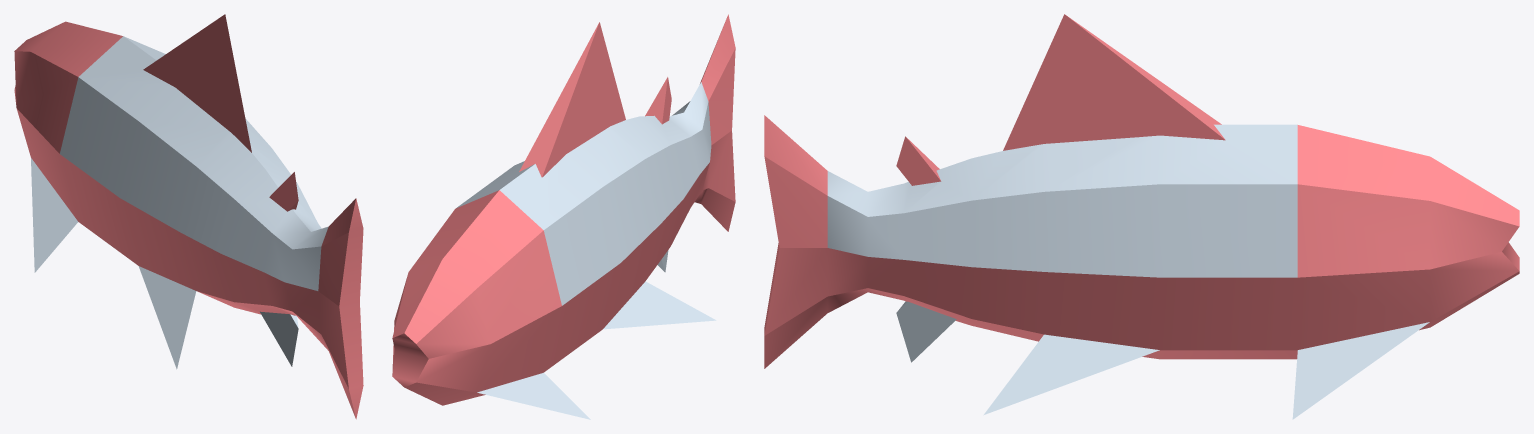
Rendered from fish.GLB.
3 renders of one model, left to right at view 1: azimuth 30°, elevation 25°; view 2: azimuth 150°, elevation 25°; view 3: azimuth 270°, elevation 25°, orthographic. The views are drawn at different scales.
Parts seen in each view (by area): view 1: fish; view 2: fish; view 3: fish.
Boxes of the visible parts, x1=… form: fish: x1=14, y1=14, x2=363, y2=419; fish: x1=392, y1=14, x2=735, y2=419; fish: x1=764, y1=14, x2=1519, y2=419.
Size of the model in its own units: 0.1978 by 0.3222 by 0.6208.
